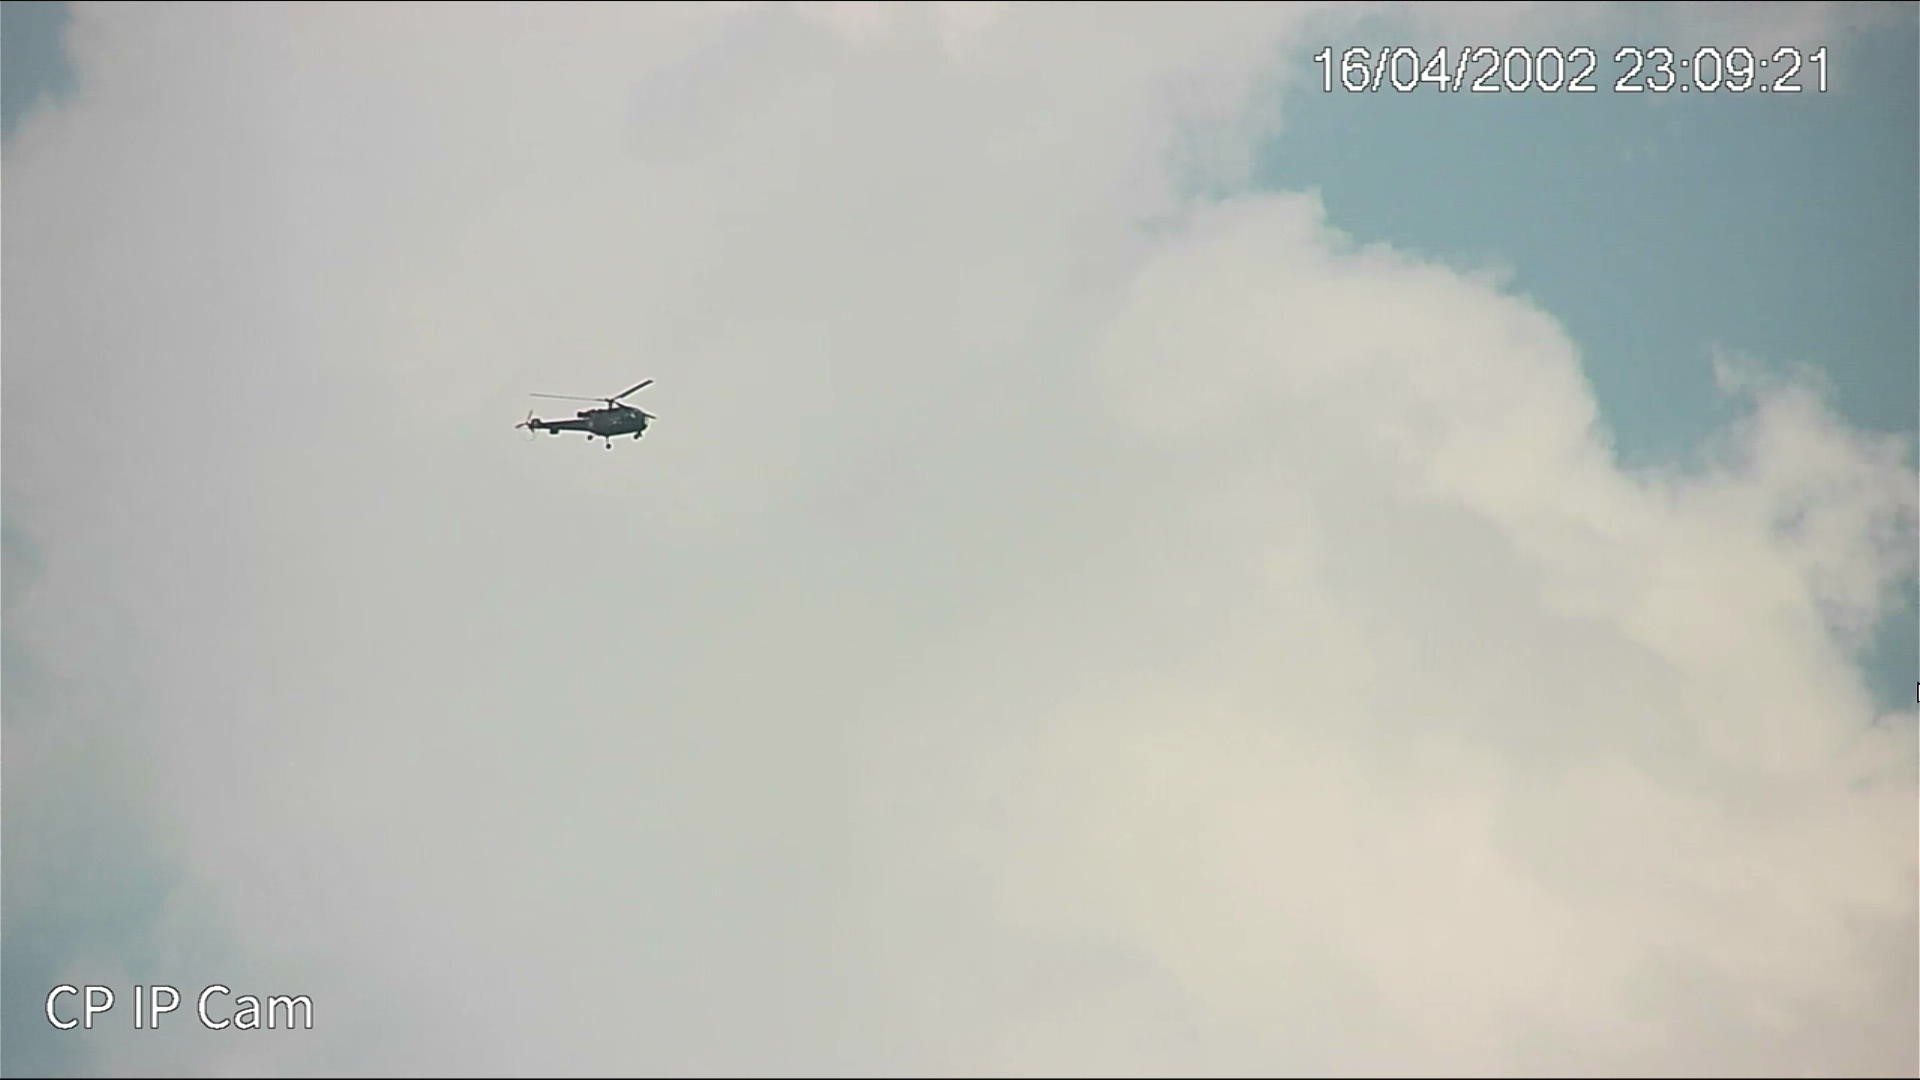SU_30: (521, 401, 650, 446)
